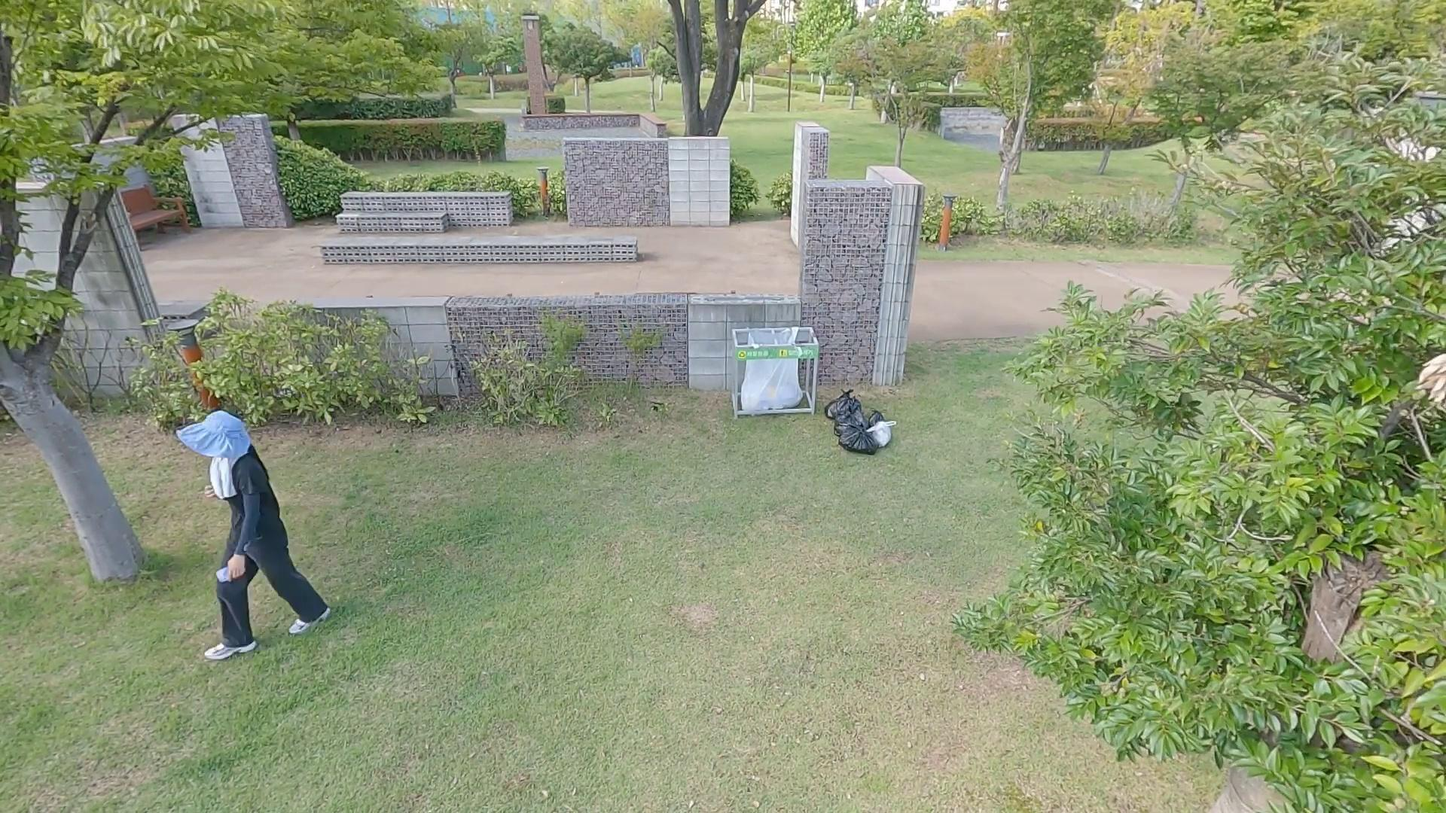person: (176, 408, 334, 661)
trash: (826, 389, 861, 423), (839, 424, 879, 453), (833, 406, 868, 438), (865, 422, 898, 447), (866, 408, 886, 430)
